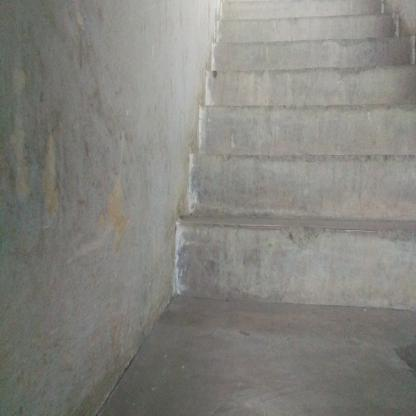stairs: (178, 36, 416, 318)
